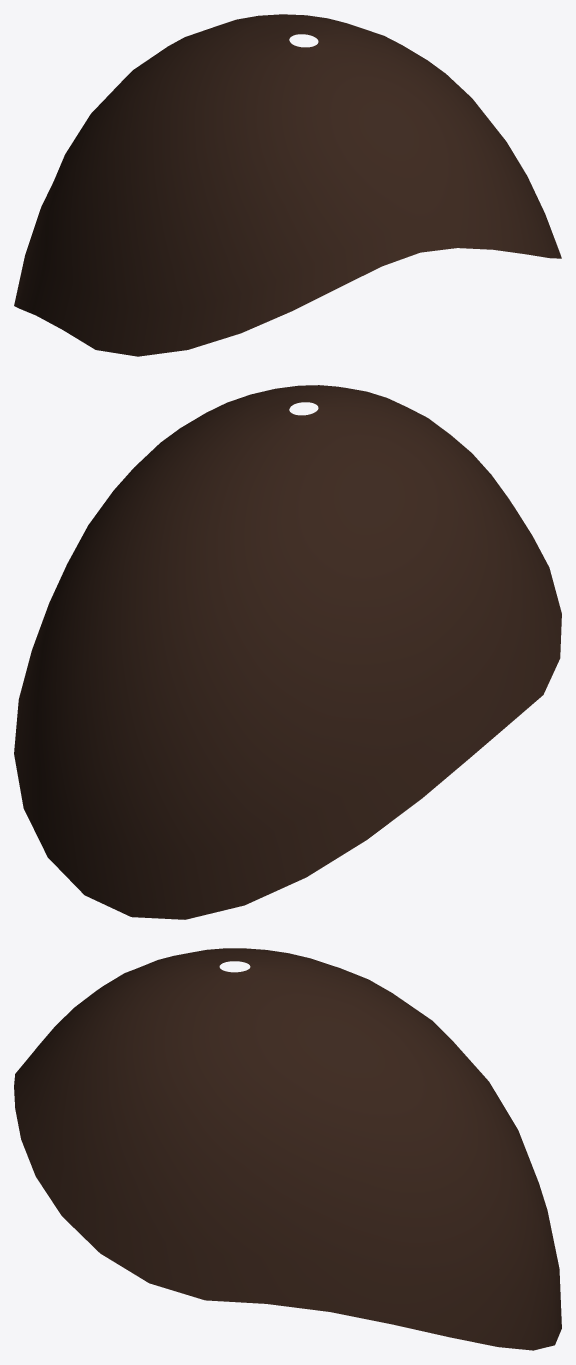
The model's file is buzz.glb.
The picture shows the model from 3 angles, top to bottom: view 1: azimuth 30°, elevation 25°; view 2: azimuth 150°, elevation 25°; view 3: azimuth 270°, elevation 25°; orthographic projection. The views are drawn at different scales.
Parts seen in each view (by area): view 1: hair-buzz; view 2: hair-buzz; view 3: hair-buzz.
Part boxes in pixels (x1,y1,x2,y2): hair-buzz: (14,14,561,356); hair-buzz: (14,385,561,919); hair-buzz: (14,948,561,1350).
Bounding box in the file's own units: 0.1606 × 0.1306 × 0.1791.
